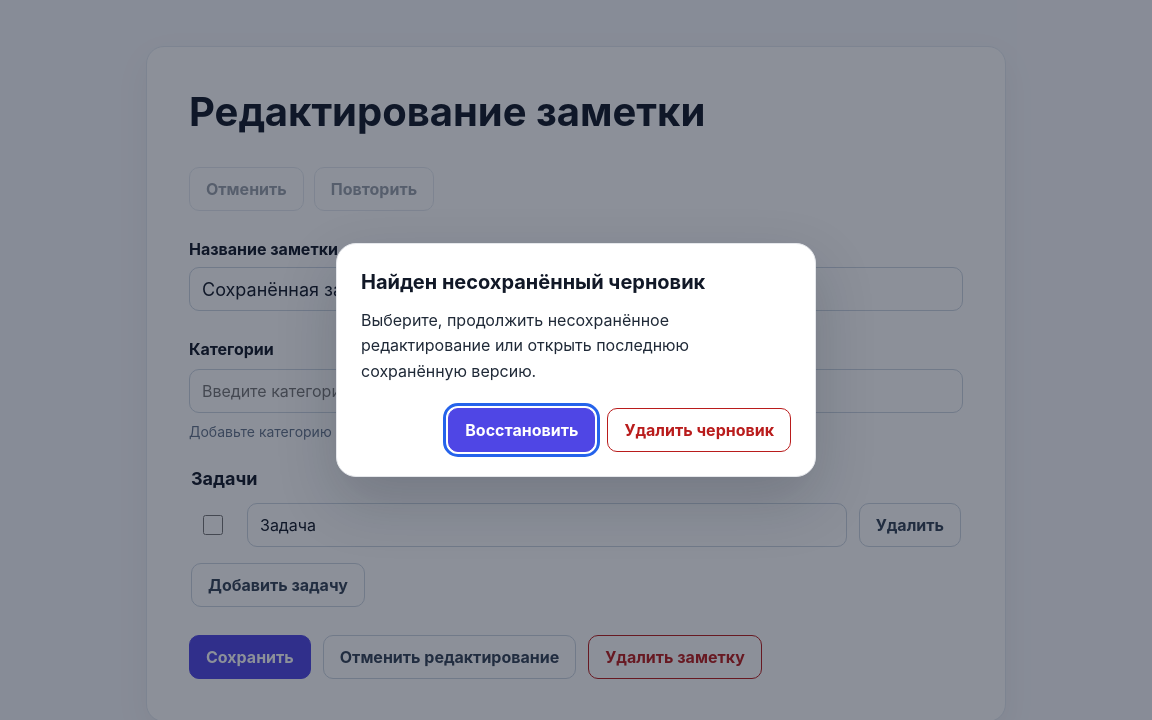
Scenario: note editor routes › offers a stored draft without applying it and restores its history explicitly
This screenshot has width=1152, height=720.
Expected: the field named "title" holds "Сохранённая заметка", [189,267,963,311]
Expected: the dialog is shown, [336,243,816,477]
Click the button with test id "draft-restore" at (522, 430), box [448,408,595,452]
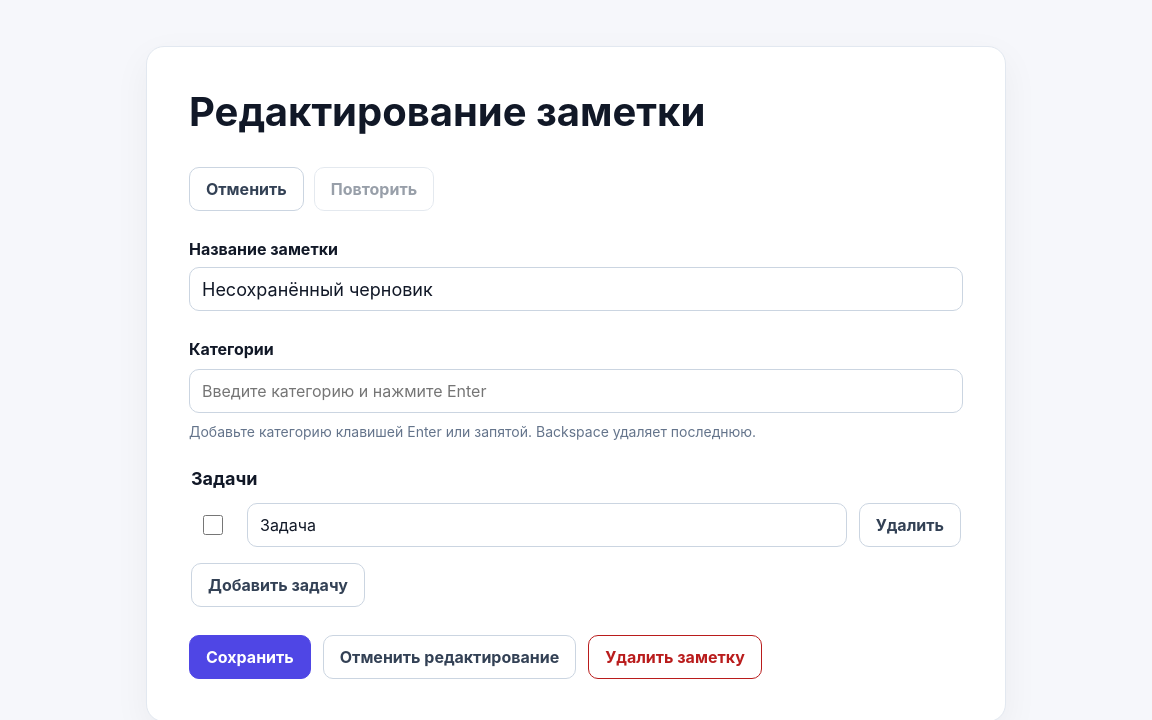
Expected: the dialog is gone
Expected: the field named "title" holds "Несохранённый черновик", [189,267,963,311]
Click the button with test id "history-undo" at (246, 189), box [189,167,304,211]
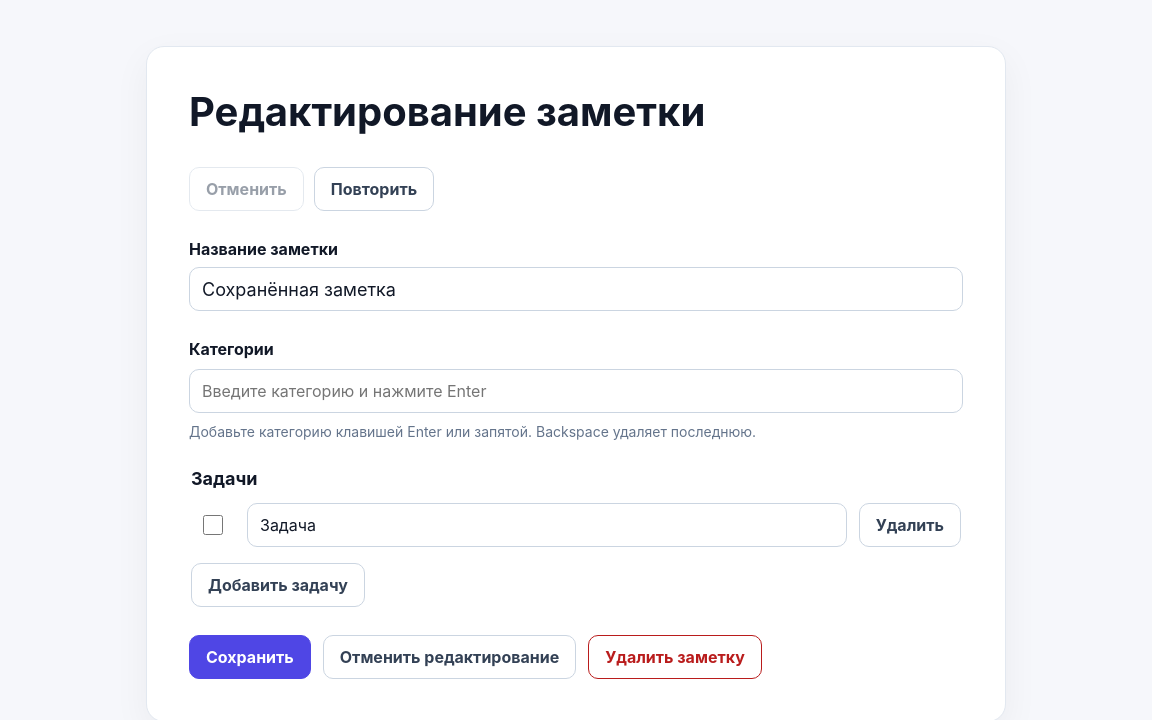
Expected: the field named "title" holds "Сохранённая заметка", [189,267,963,311]
